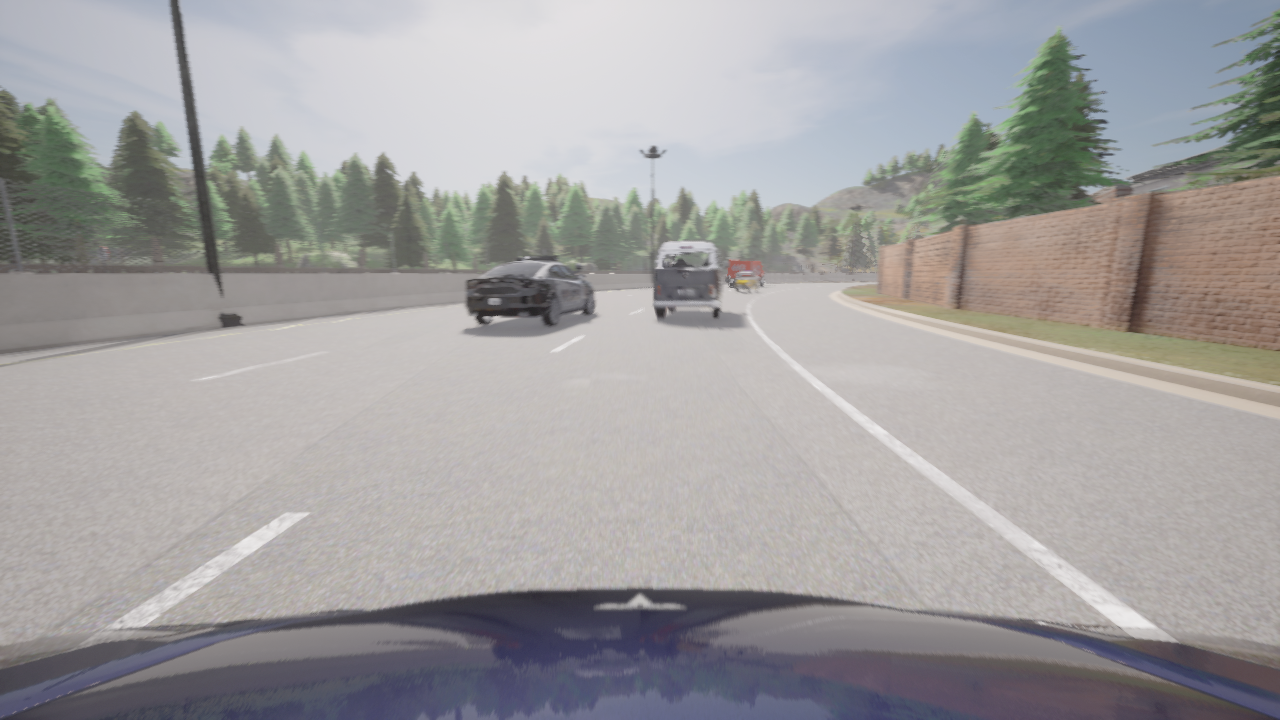cyclist: (0, 588, 1279, 719), (464, 256, 594, 325), (652, 241, 728, 318), (725, 259, 768, 286), (735, 271, 758, 292)
